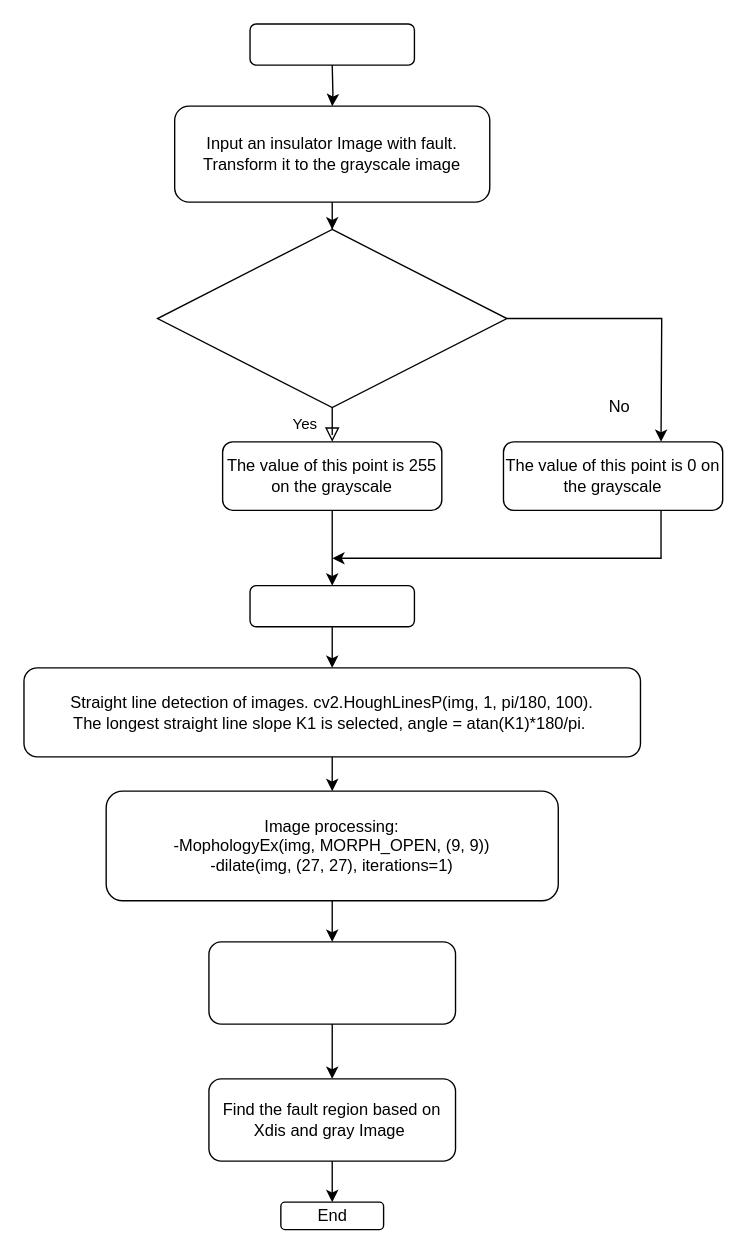
Some shapes in this 747 by 1254 pixel diagram are drawn without their labels. Each missing label, with the centre of its shape:
"Judging condition: 25<=R<=165 40<=B<=115 6<=G-R<=45" goes at (x=331, y=318).
"Plot graph on the X axis with Xdis(i) = sum(image(i:,))" goes at (x=332, y=982).
"Start" goes at (x=331, y=44).
"Use Median filtering of [7,7]" goes at (x=331, y=605).
